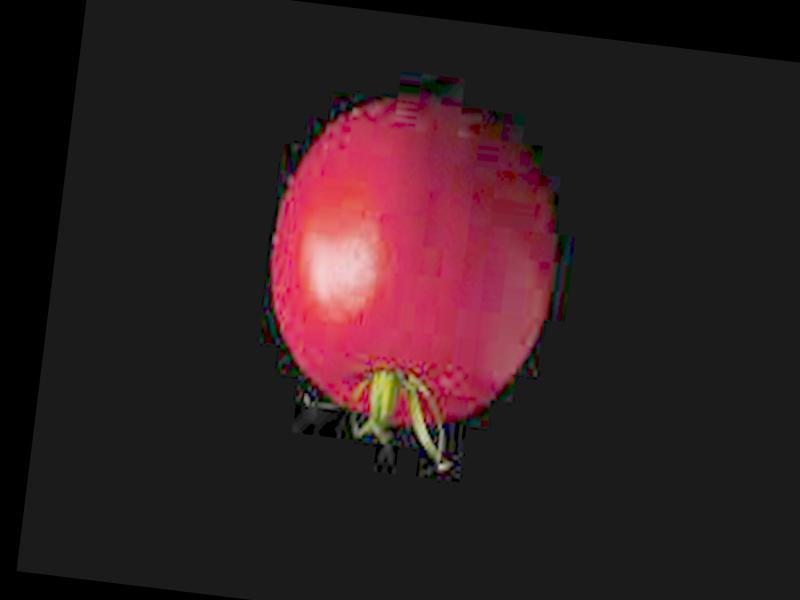Tomato: (255, 93, 570, 439)
